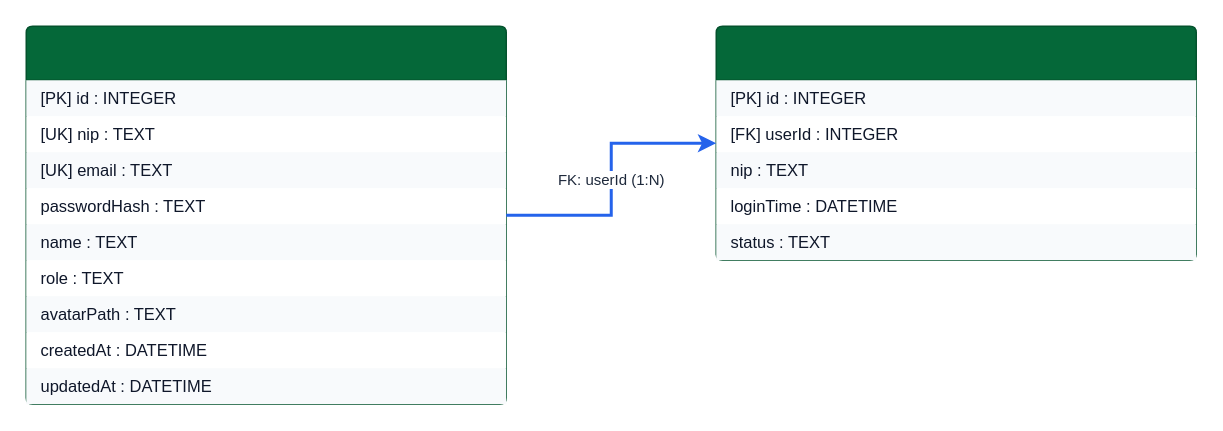
Some shapes in this 1223 by 431 pixel diagram are drawn without their labels. The shapes that lost their labels are listed below. From the top down, each one's box as (x1, y1, x2, y2) in pixels, then its label:
(715, 25, 1196, 260): login_logs
(25, 25, 506, 404): users
